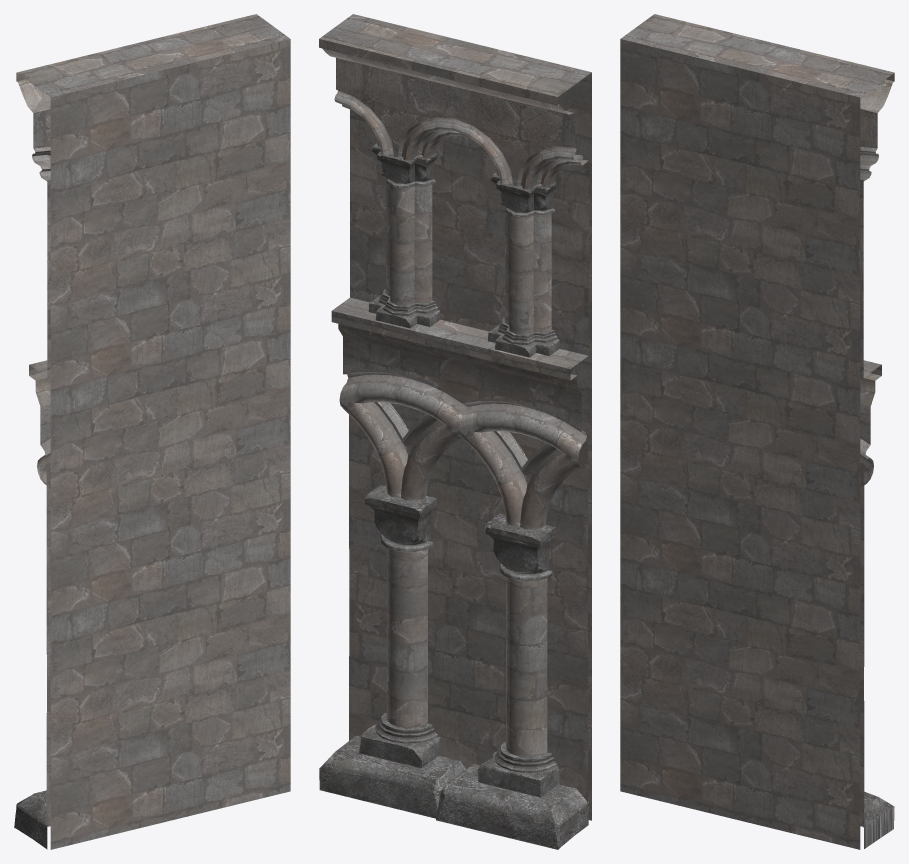
3 renders of one model, left to right at view 1: azimuth 30°, elevation 25°; view 2: azimuth 150°, elevation 25°; view 3: azimuth 330°, elevation 25°, orthographic.
Visible parts, largest first — view 1: SM_DungeonArcadeWall_LOD0; view 2: SM_DungeonArcadeWall_LOD0; view 3: SM_DungeonArcadeWall_LOD0.
Part boxes in pixels (<box>): SM_DungeonArcadeWall_LOD0: <box>14,14,290,849</box>; SM_DungeonArcadeWall_LOD0: <box>319,14,591,849</box>; SM_DungeonArcadeWall_LOD0: <box>620,14,894,849</box>.
Size of the model in its own units: 2.02 by 6.03 by 0.5185.
Materials: 2 (2 with a texture image).
